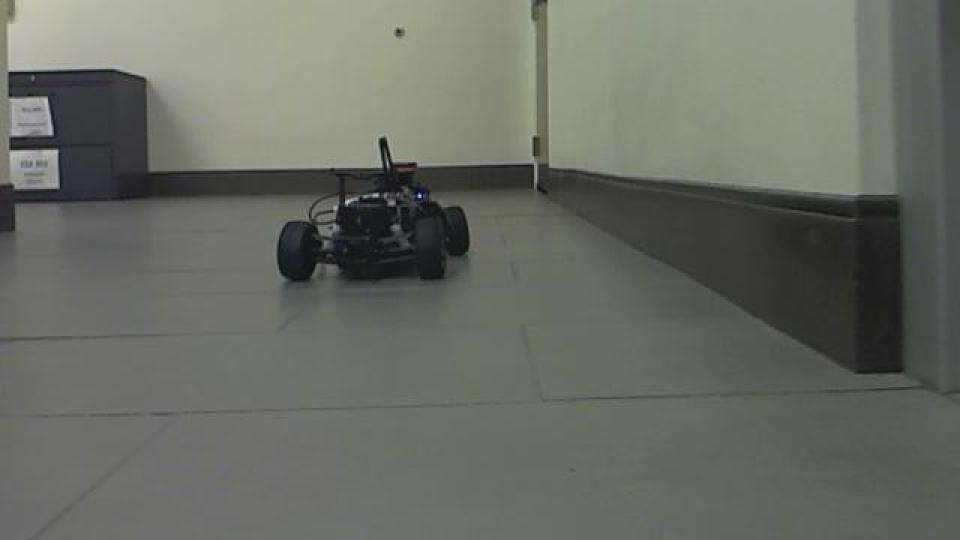car: (273, 133, 473, 285)
